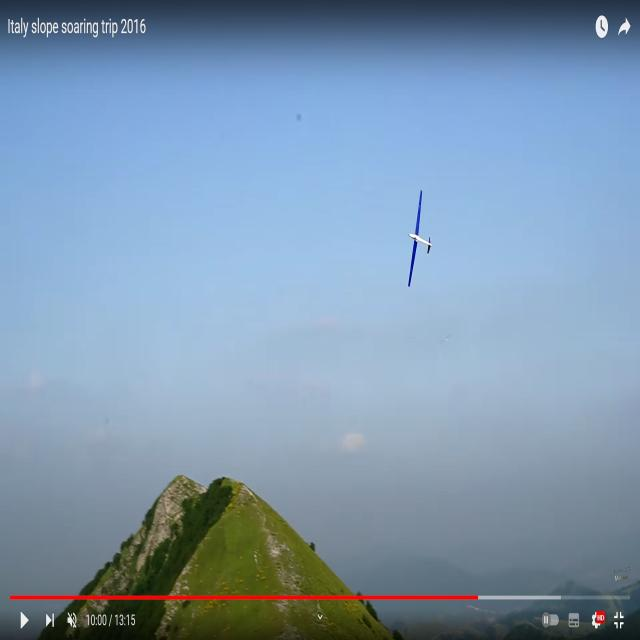iha: (406, 221, 434, 257)
